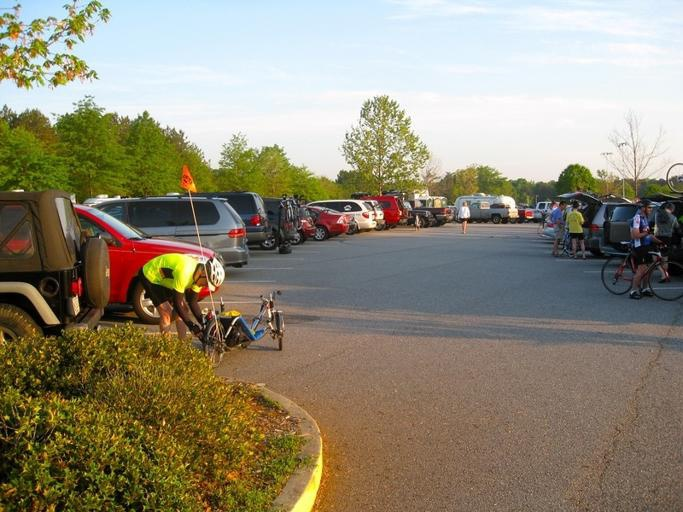non-vehicle: (200, 287, 287, 367), (602, 239, 682, 300), (666, 162, 683, 194)
